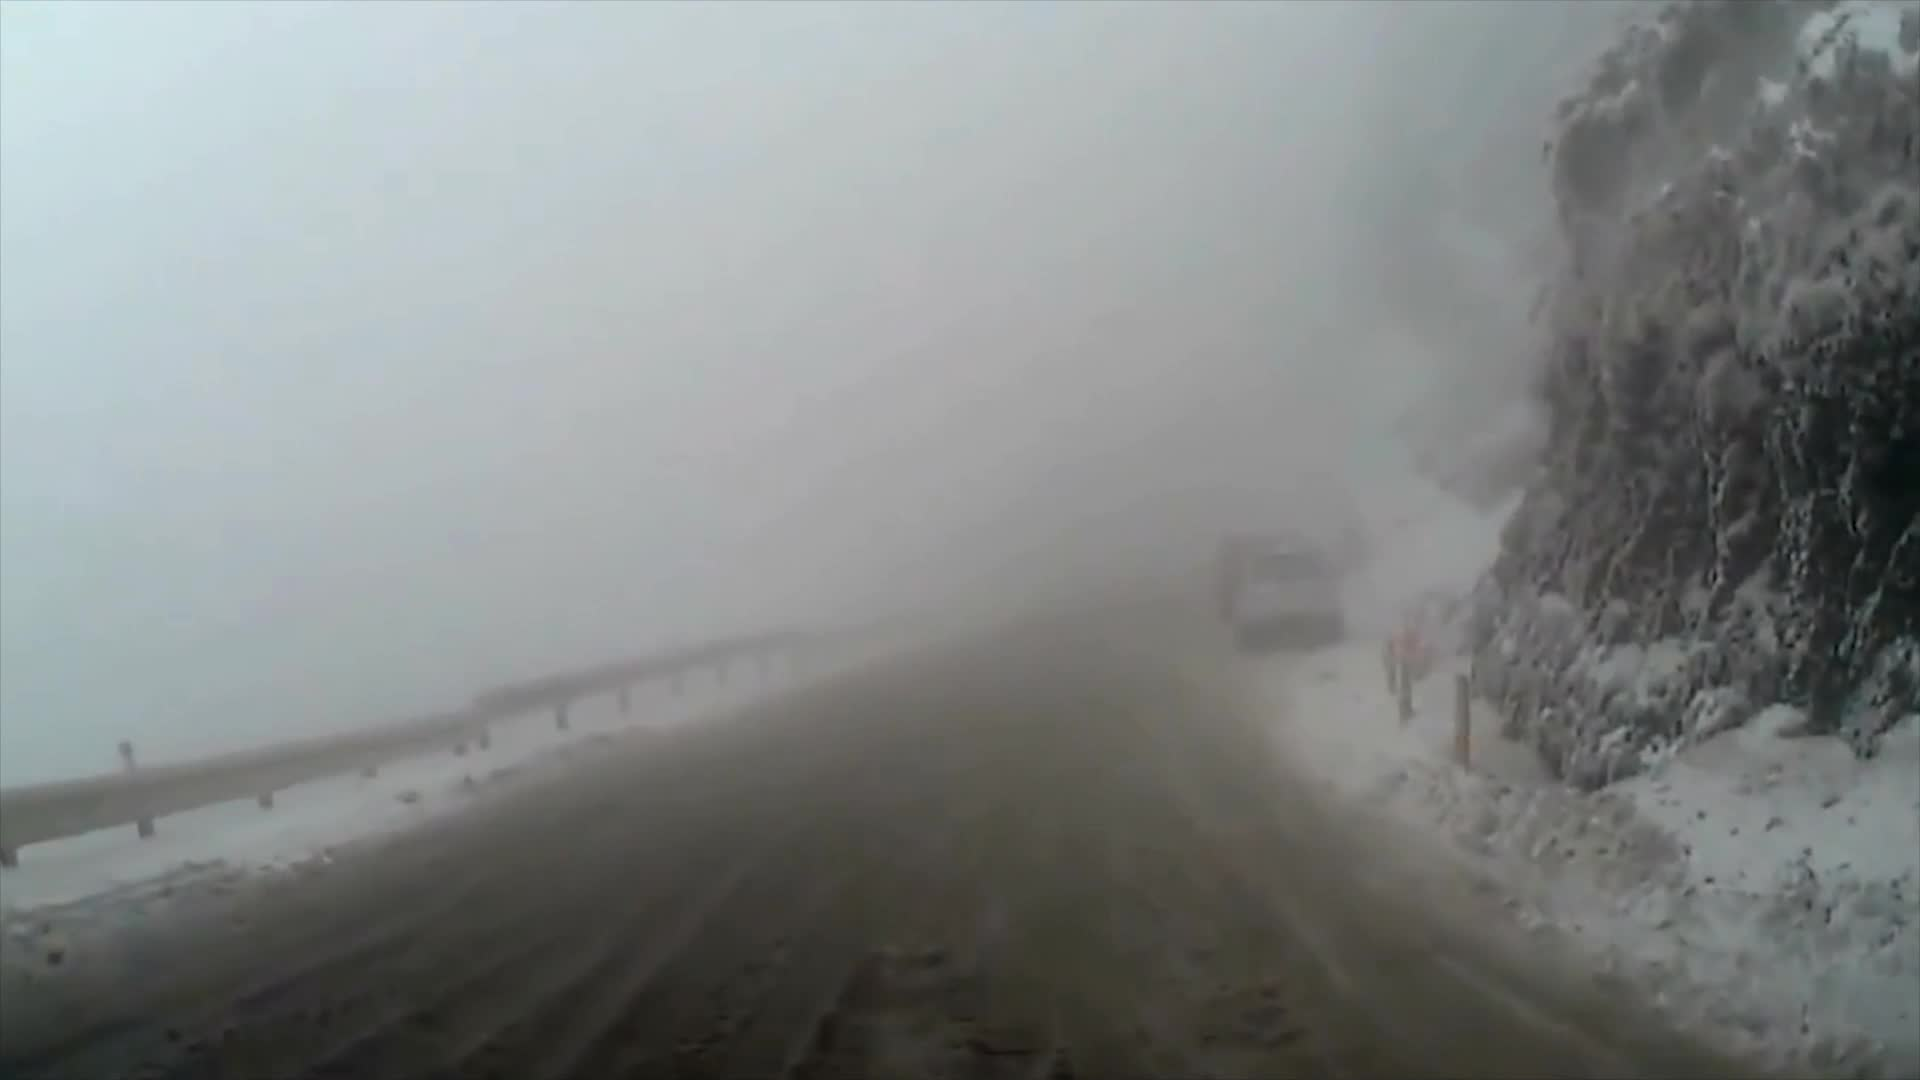vehicle: (1234, 549, 1346, 658)
